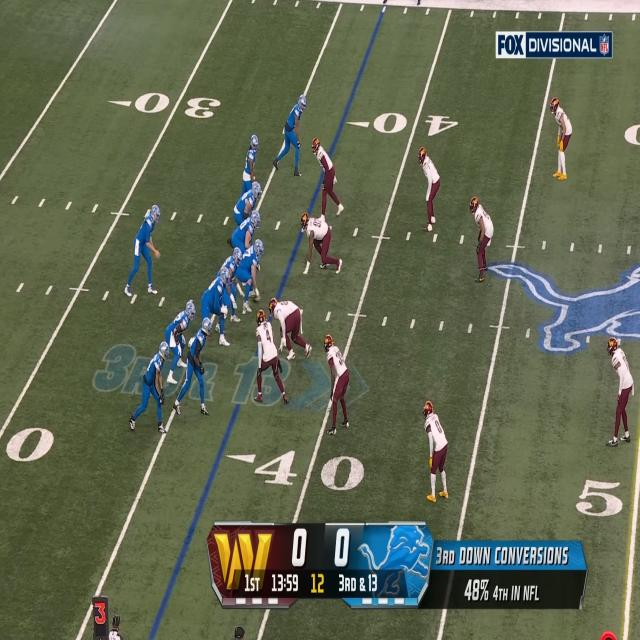Ball: (251, 294, 262, 304)
